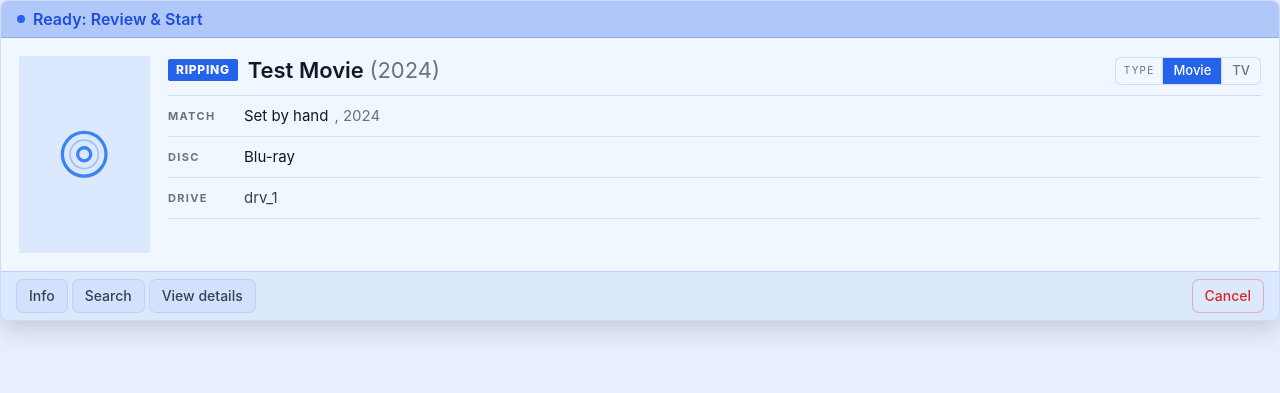
DiscReviewWidget › action buttons › keeps the card and shows the error when Cancel fails
Step 1. Click the button "Cancel" → click(1228, 296), box [1192, 280, 1263, 312]
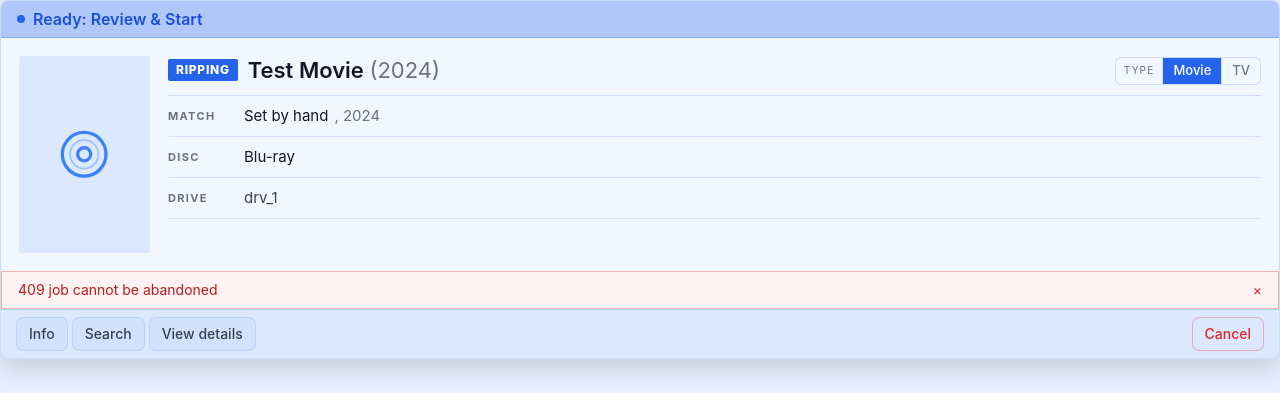
Now the text "409 job cannot be abandoned" is shown, box [18, 280, 218, 298]
